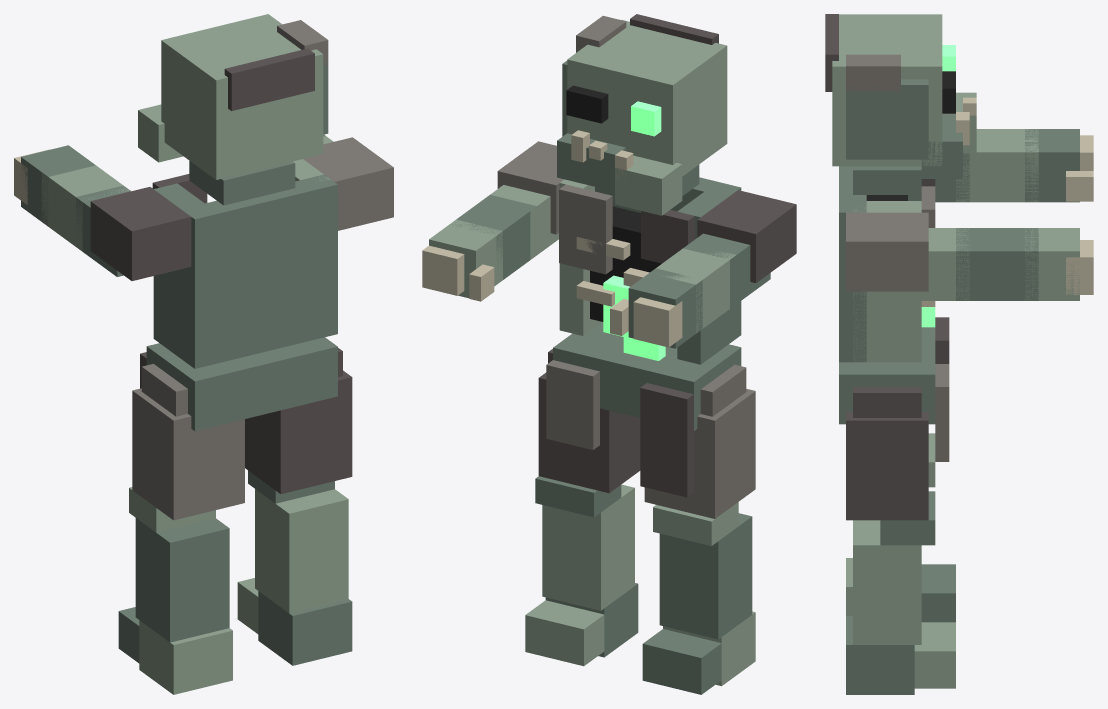
Rendered from voxel_zombie_52px.glb.
The picture shows the model from 3 angles, left to right: view 1: azimuth 30°, elevation 25°; view 2: azimuth 150°, elevation 25°; view 3: azimuth 270°, elevation 25°; orthographic projection.
Visible parts, largest first — view 1: torso_back, head_cranium_main, thigh_right, pelvis_core, shin_right, shin_left, thigh_left, shoulder_right, shoulder_left, foot_left_heel, foot_right_heel, hair_tuft_back (+13 smaller); view 2: head_cranium_main, shin_right, shin_left, pelvis_core, thigh_right, thigh_left, shroud_front_right, shoulder_right, shroud_front_left, foot_left_toe, foot_right_toe, chest_shirt_left (+31 smaller); view 3: head_cranium_main, thigh_left, shin_left, shoulder_left, head_temple_left, forearm_left, forearm_right, torso_left_flank, pelvis_core, foot_left_heel, hand_right_palm, torso_back (+20 smaller).
Boxes of the visible parts, x1,y1,x2,y2 form: torso_back: (181,174,337,368); head_cranium_main: (161,14,323,179); thigh_right: (132,388,244,520); pelvis_core: (146,337,337,431); shin_right: (135,518,229,642); shin_left: (255,489,348,613); thigh_left: (245,370,352,493); shoulder_right: (90,187,191,280); shoulder_left: (303,137,393,230); foot_left_heel: (258,591,352,665); foot_right_heel: (139,620,232,694); hair_tuft_back: (224,48,314,110); head_cranium_main: (567,20,727,176); shin_right: (659,513,752,639); shin_left: (542,484,634,610); pelvis_core: (553,322,741,430); thigh_right: (644,389,755,518); thigh_left: (538,372,640,493); shroud_front_right: (640,383,693,497); shoulder_right: (697,190,796,282); shroud_front_left: (546,360,599,449); foot_left_toe: (525,600,604,666); foot_right_toe: (642,629,721,694); chest_shirt_left: (559,184,612,274); head_cranium_main: (832,14,942,166); thigh_left: (846,412,928,520); shin_left: (853,520,921,644); shoulder_left: (846,212,928,291); head_temple_left: (846,79,928,159); forearm_left: (956,228,1038,300); forearm_right: (956,129,1038,202); torso_left_flank: (853,201,921,362); pelvis_core: (839,327,935,424); foot_left_heel: (846,616,914,694); hand_right_palm: (1025,129,1079,202); torso_back: (839,166,866,362).
Size of the model in its own units: 0.6875 by 1.55 by 0.6094.
